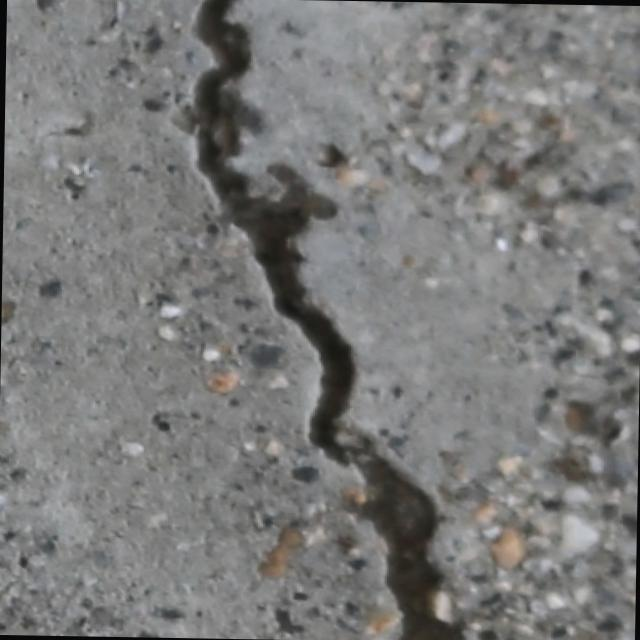crack: (162, 0, 479, 640)
